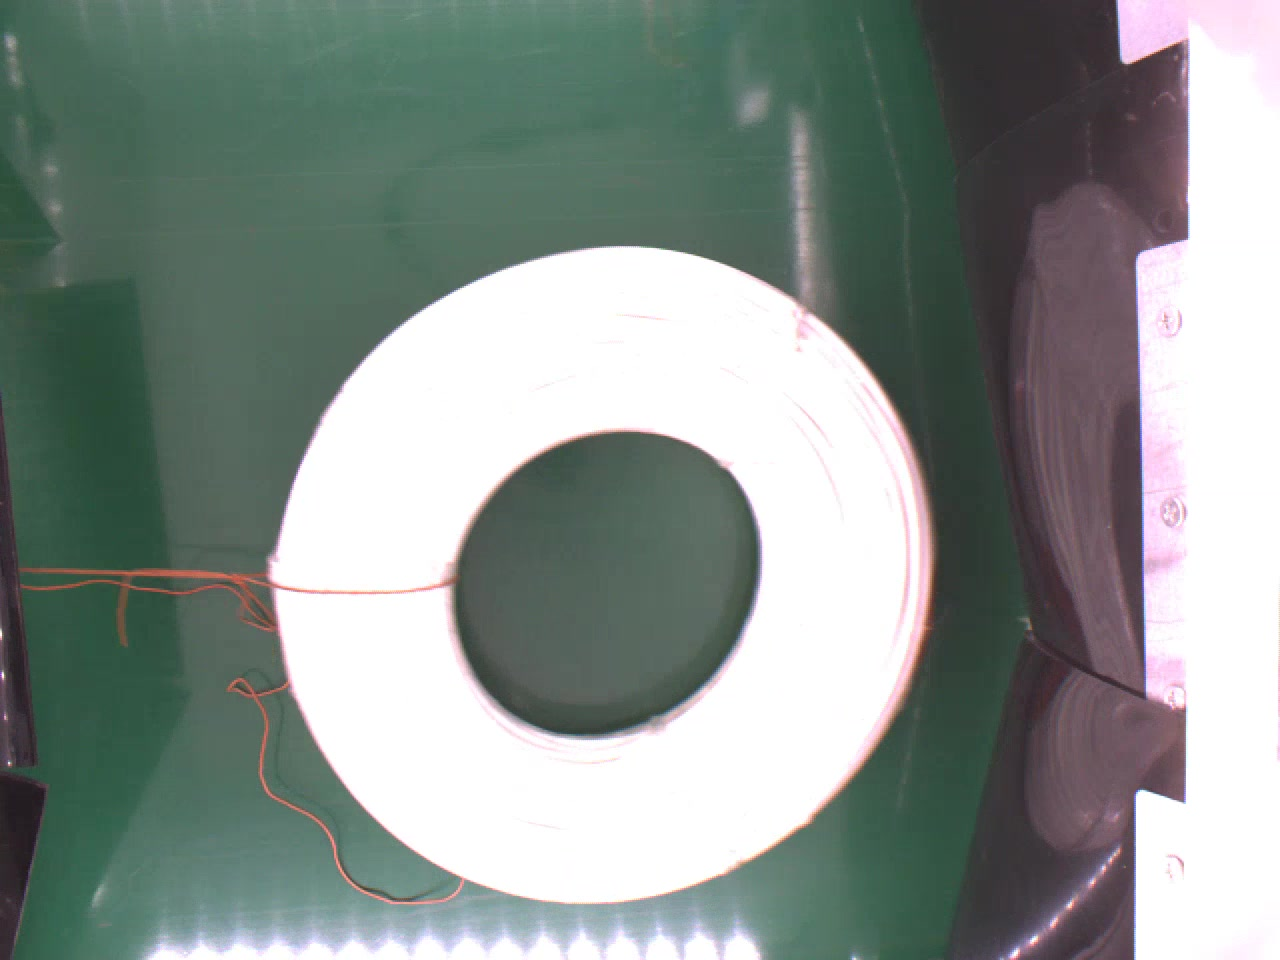white: (267, 240, 949, 905)
